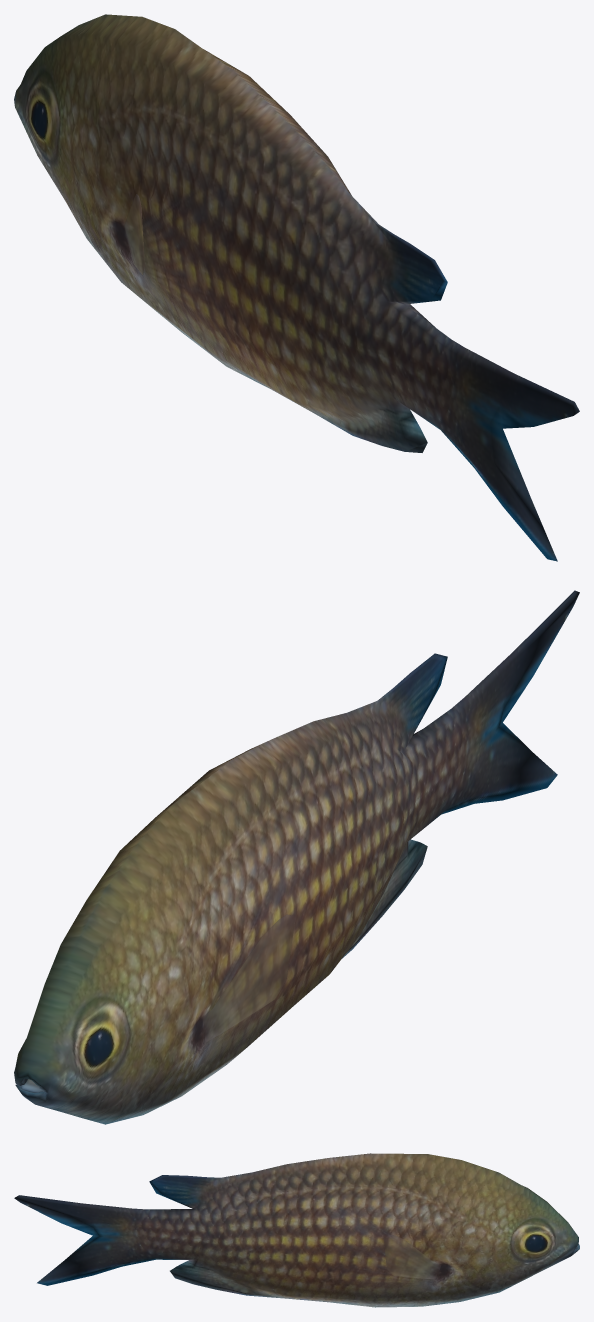
The model's file is ChromisV2.glb.
3 views of the same model, one above another, from view 1: azimuth 30°, elevation 25°; view 2: azimuth 150°, elevation 25°; view 3: azimuth 270°, elevation 25° (orthographic). The views are drawn at different scales.
Visible parts, largest first — view 1: Chromis, PinneLateraliChromis; view 2: Chromis, PinneLateraliChromis; view 3: Chromis, PinneLateraliChromis.
Boxes of the visible parts, x1,y1,x2,y2 form: Chromis: (14, 14, 579, 561); PinneLateraliChromis: (124, 194, 144, 274); Chromis: (14, 590, 579, 1124); PinneLateraliChromis: (203, 914, 295, 1042); Chromis: (14, 1153, 579, 1307); PinneLateraliChromis: (383, 1235, 440, 1279).
Bounding box in the file's own units: 1.98 × 3.66 × 12.19.
2 materials, 2 textured.
